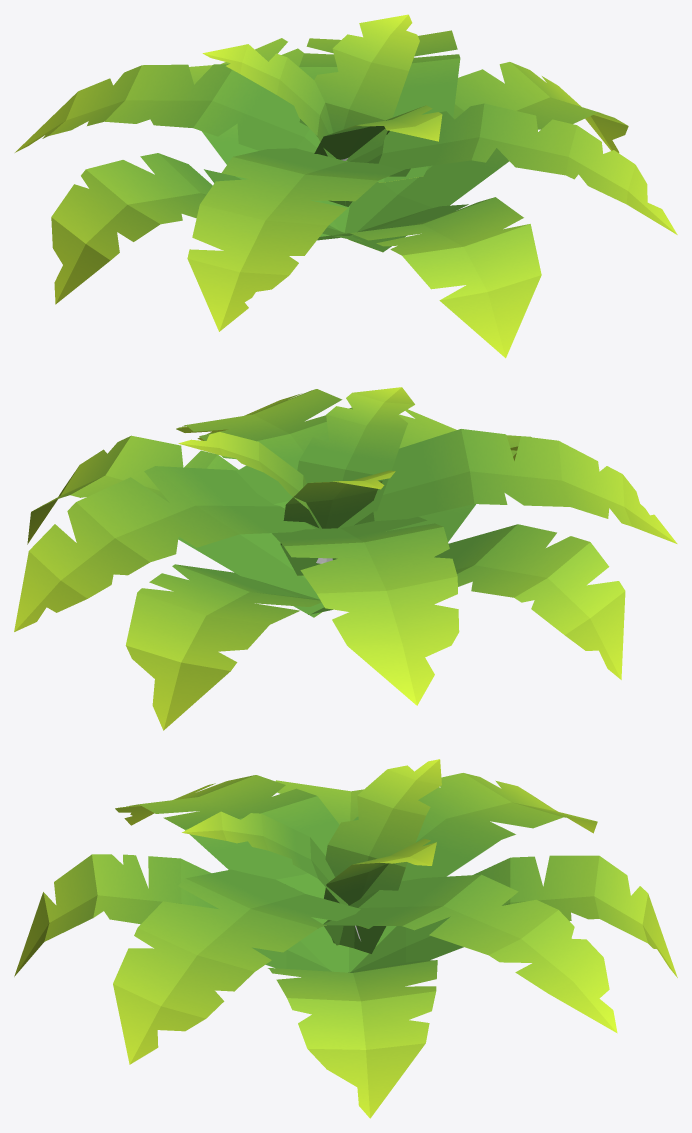
The model's file is Tropical Plant 1.fbx.
3 views of the same model, one above another, from view 1: azimuth 30°, elevation 25°; view 2: azimuth 150°, elevation 25°; view 3: azimuth 270°, elevation 25° (orthographic). The views are drawn at different scales.
Visible parts, largest first — view 1: Tropical Plant; view 2: Tropical Plant; view 3: Tropical Plant.
Part boxes in pixels (x1=…): Tropical Plant: x1=15, y1=14, x2=677, y2=358; Tropical Plant: x1=14, y1=387, x2=677, y2=730; Tropical Plant: x1=14, y1=759, x2=677, y2=1118.
Bounding box in the file's own units: 82.28 × 23.86 × 82.43.
